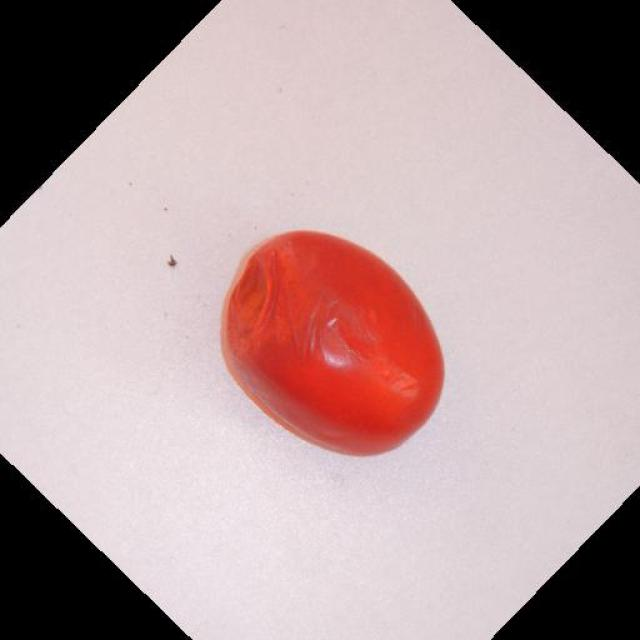Stale_tomato: (216, 210, 446, 460)
